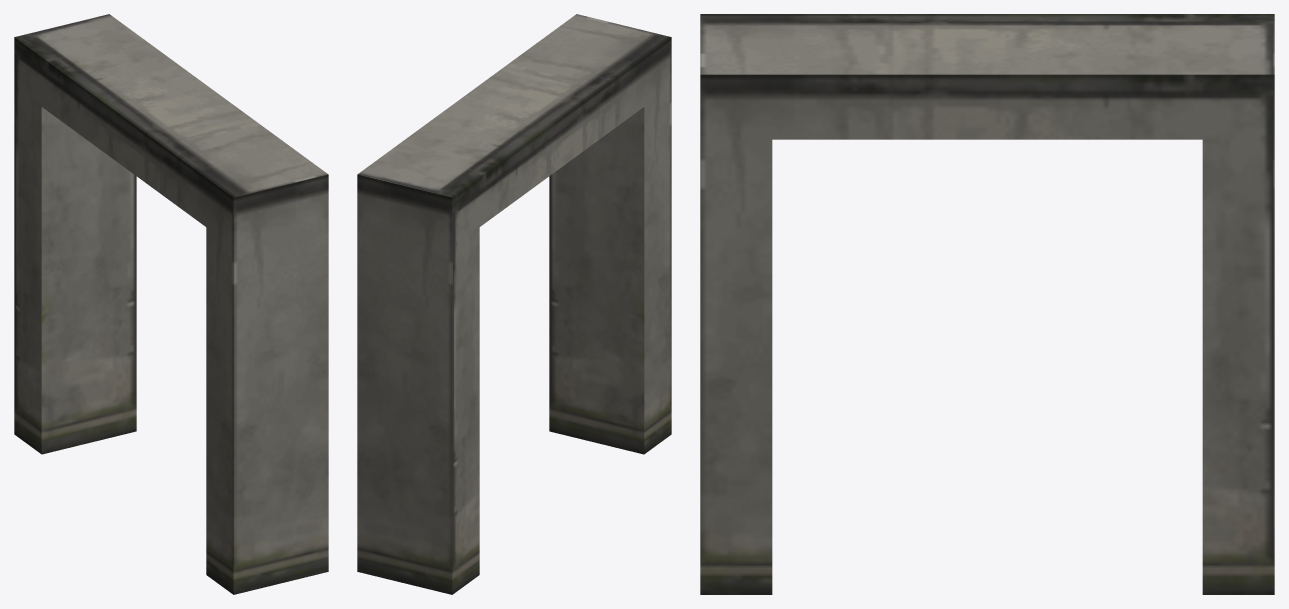
The model's file is SM_WALL_S_07.fbx.
The picture shows the model from 3 angles, left to right: view 1: azimuth 30°, elevation 25°; view 2: azimuth 150°, elevation 25°; view 3: azimuth 270°, elevation 25°; orthographic projection. The views are drawn at different scales.
Visible parts, largest first — view 1: SM_WALL_S_07; view 2: SM_WALL_S_07; view 3: SM_WALL_S_07.
Part boxes in pixels (left/top/right/bottom): SM_WALL_S_07: left=14, top=14, right=328, bottom=594; SM_WALL_S_07: left=357, top=14, right=671, bottom=594; SM_WALL_S_07: left=700, top=14, right=1274, bottom=594.
Bounding box in the file's own units: 1 × 4 × 4.
